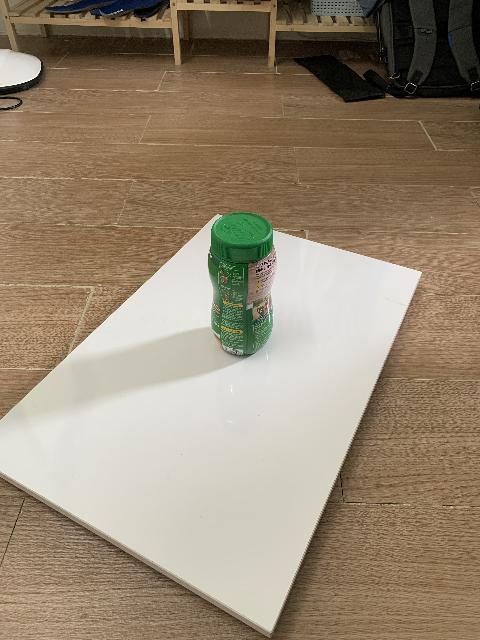milo: (208, 212, 277, 356)
